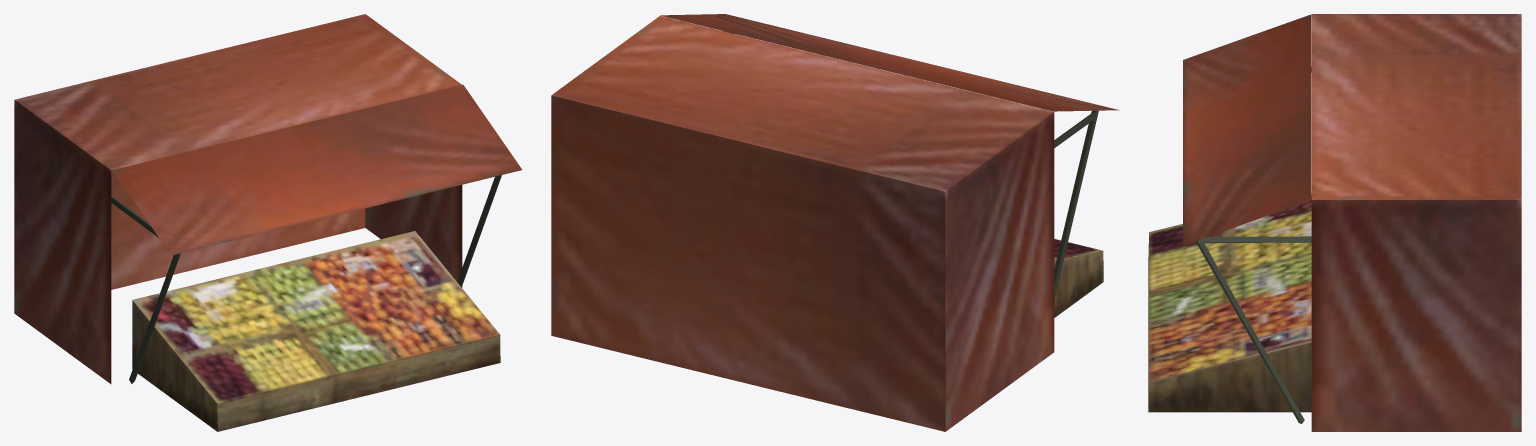
Rendered from Environment - Prop - Market Vender 01 - PMOpmarkV1.glb.
3 views of the same model, side by side, from view 1: azimuth 30°, elevation 25°; view 2: azimuth 150°, elevation 25°; view 3: azimuth 270°, elevation 25° (orthographic). The views are drawn at different scales.
Visible parts, largest first — view 1: PMOPMARKV1; view 2: PMOPMARKV1; view 3: PMOPMARKV1.
Boxes of the visible parts, x1=… form: PMOPMARKV1: x1=14, y1=14, x2=522, y2=431; PMOPMARKV1: x1=551, y1=14, x2=1119, y2=431; PMOPMARKV1: x1=1148, y1=14, x2=1521, y2=431.
Bounding box in the file's own units: 21.69 × 12.61 × 18.36.
1 material, 1 textured.
